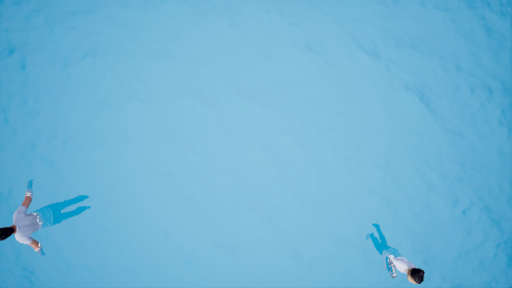person: (3, 178, 97, 255), (356, 218, 432, 288)
